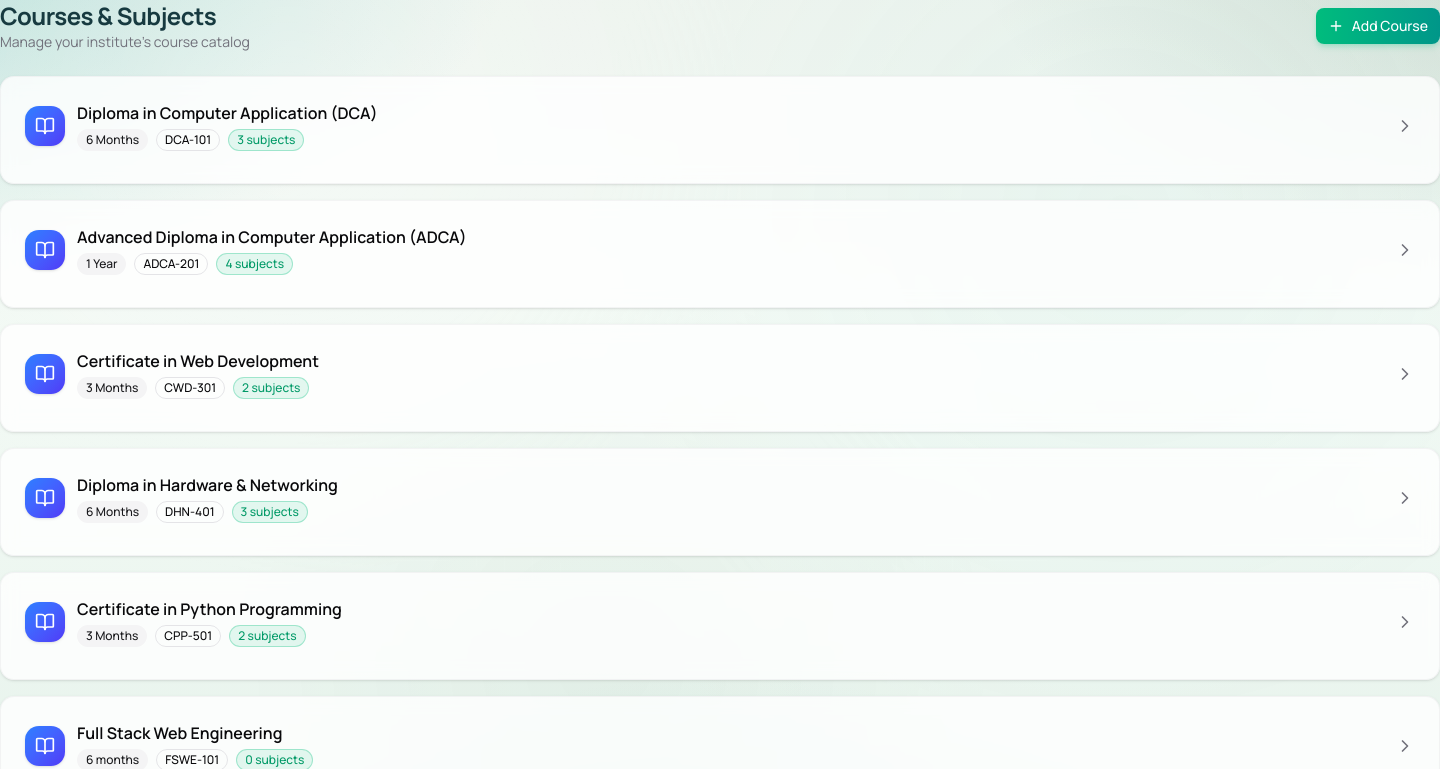
it: AdminCourses Integration Tests › should successfully add a new subject to an existing course (Positive CRUD Add Subject)
This screenshot has width=1440, height=769.
Step 1. Click the text "Diploma in Computer Application (DCA)" → (227, 113), box [77,101,378,125]
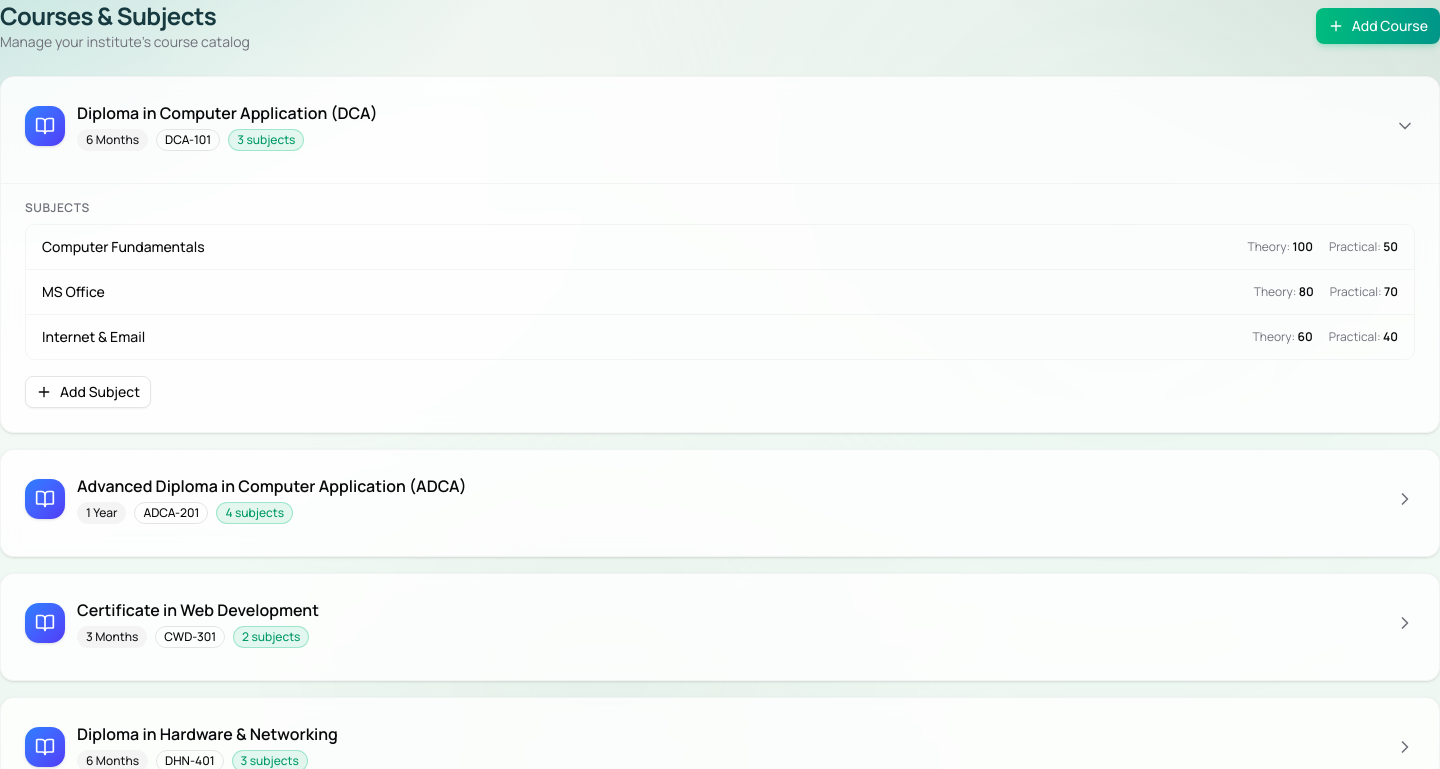
Step 2. Click the button "Add Subject" → (88, 392), box [25,376,151,408]
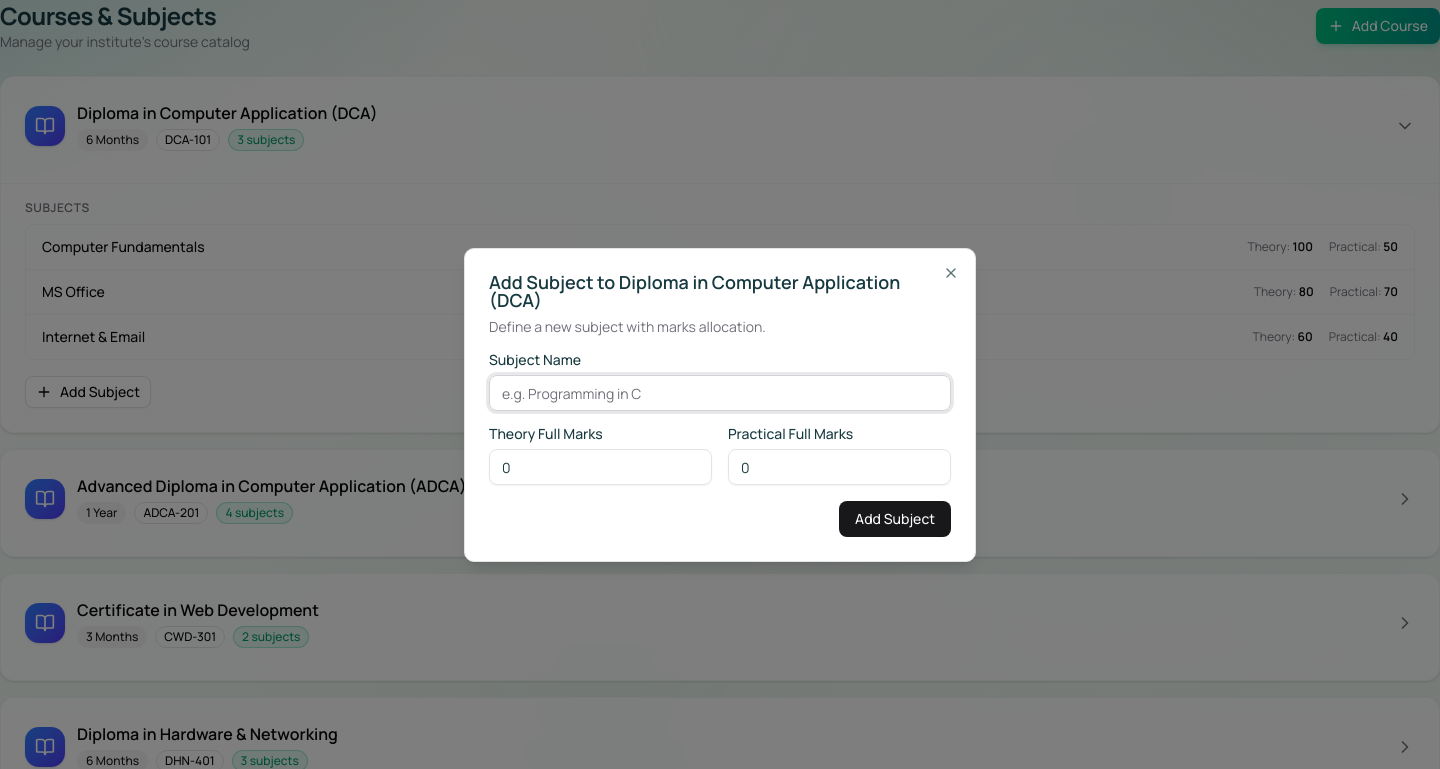
Step 3. Type "Advanced React" into the field with placeholder "e.g. Programming in C" → (720, 393), box [489,375,951,411]
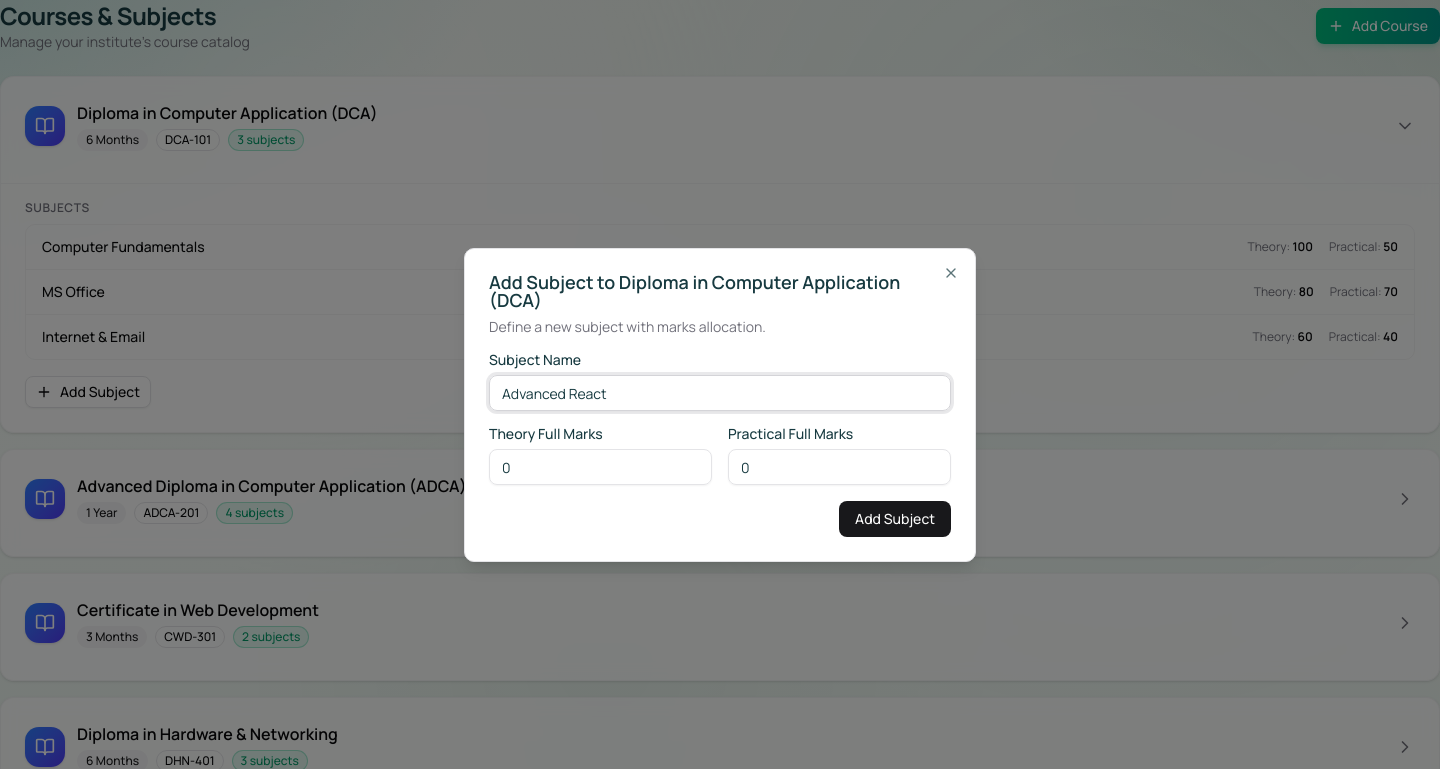
Step 4. Replace the text in the number field labelled "Theory Full Marks" with "100" → (600, 467), box [489,449,712,485]
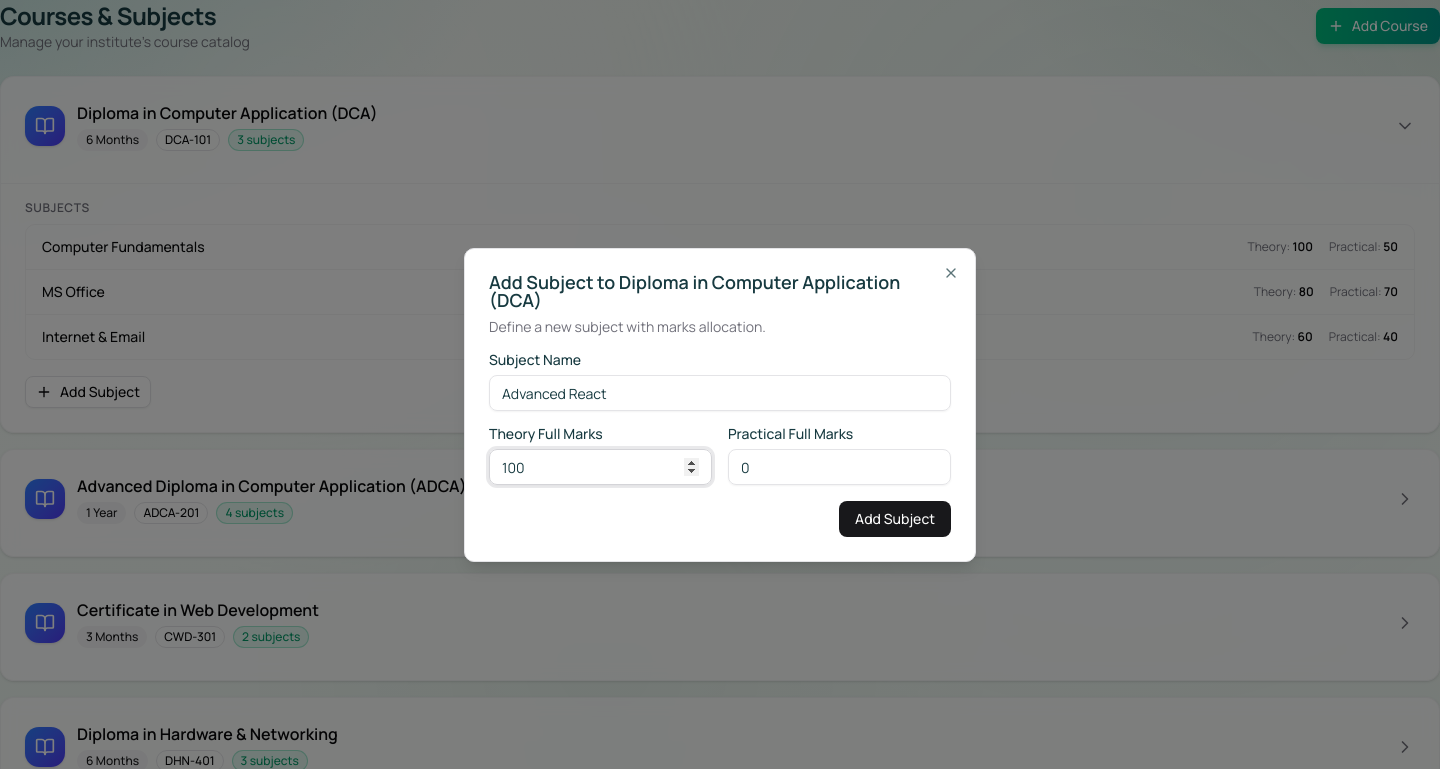
Step 5. Replace the text in the number field labelled "Practical Full Marks" with "50" → (840, 467), box [728,449,951,485]
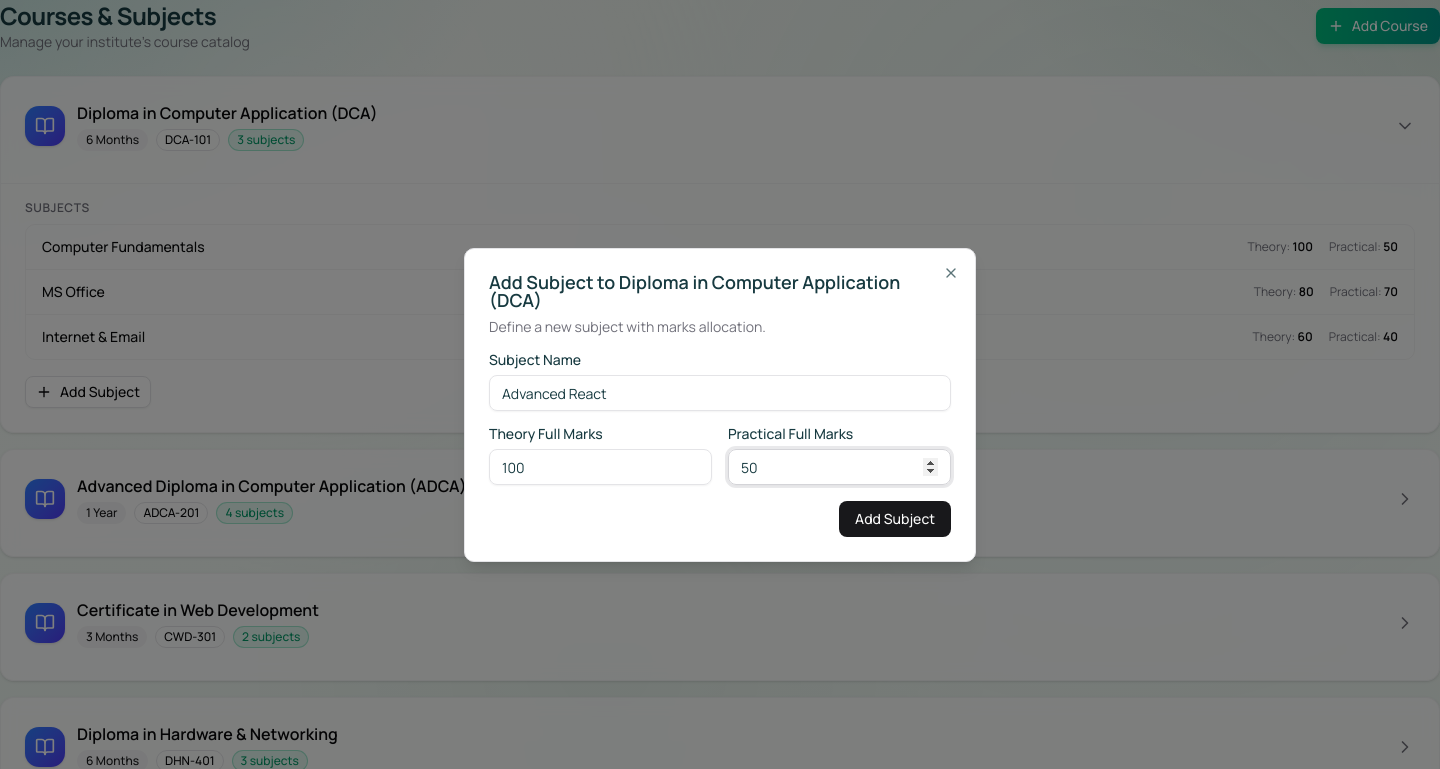
Step 6. Click the button "Add Subject" → (895, 519), box [839,501,951,537]
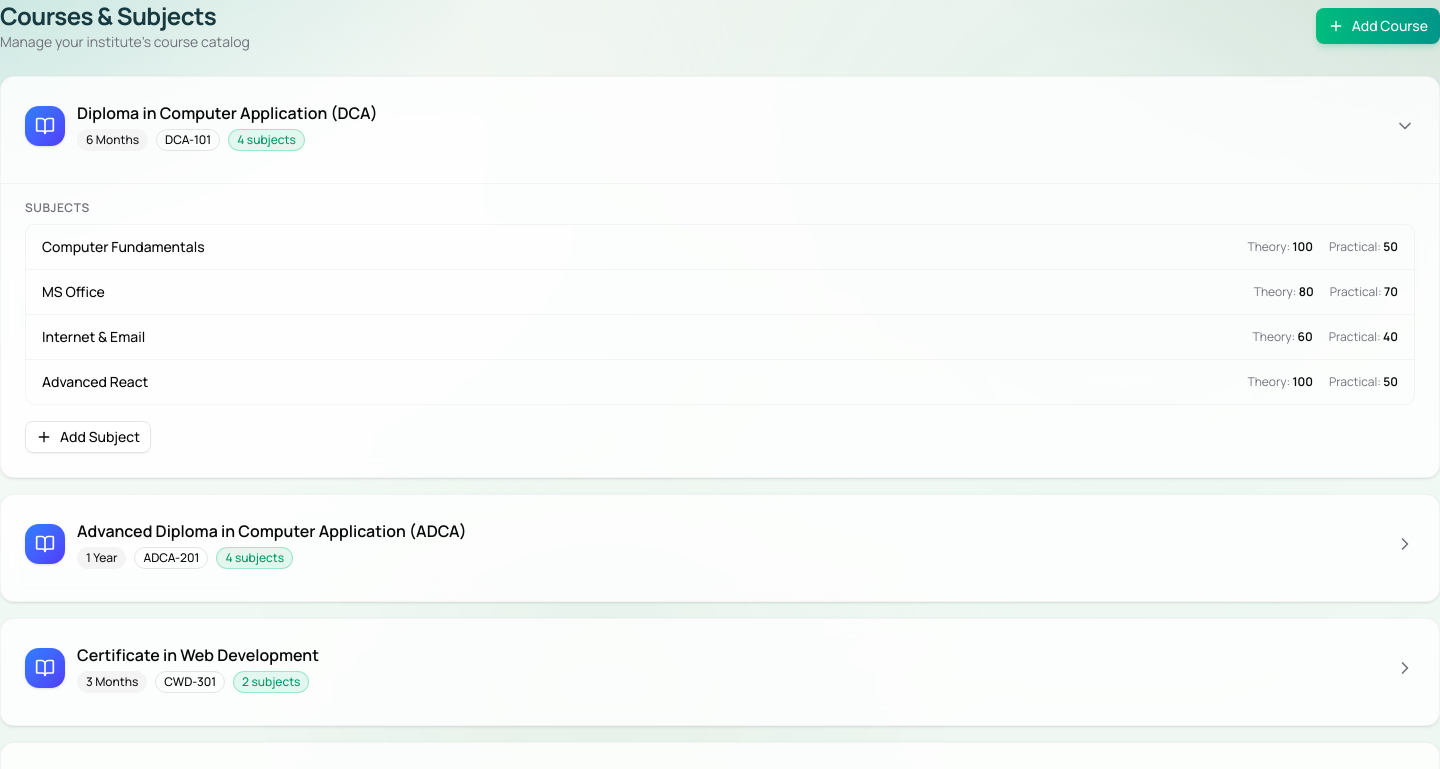
Expected: the text "Advanced React" is shown, [42,372,148,392]
